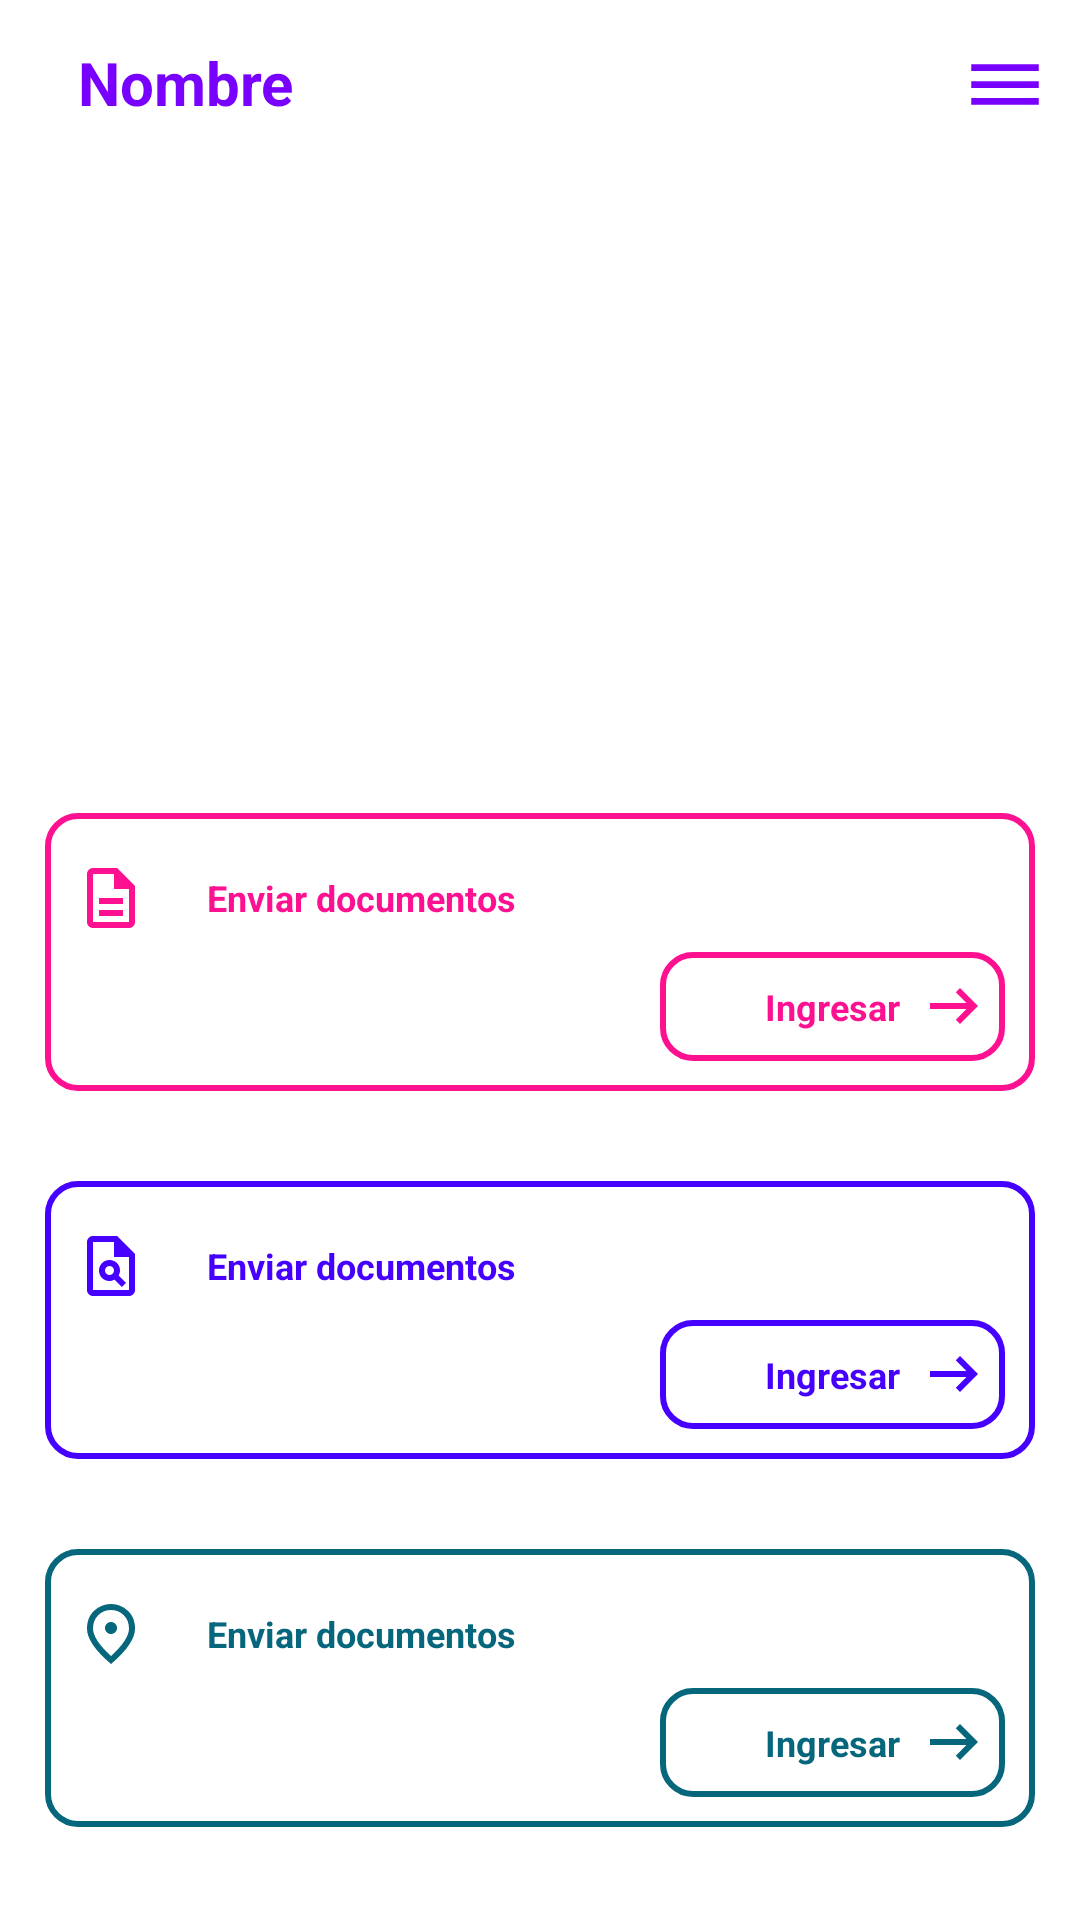

Where icons sit on this 1080px x 1920px app screen, as BBox(x1, y1, x2, y2):
location: BBox(87, 1604, 135, 1664)
menu: BBox(971, 64, 1039, 105)
